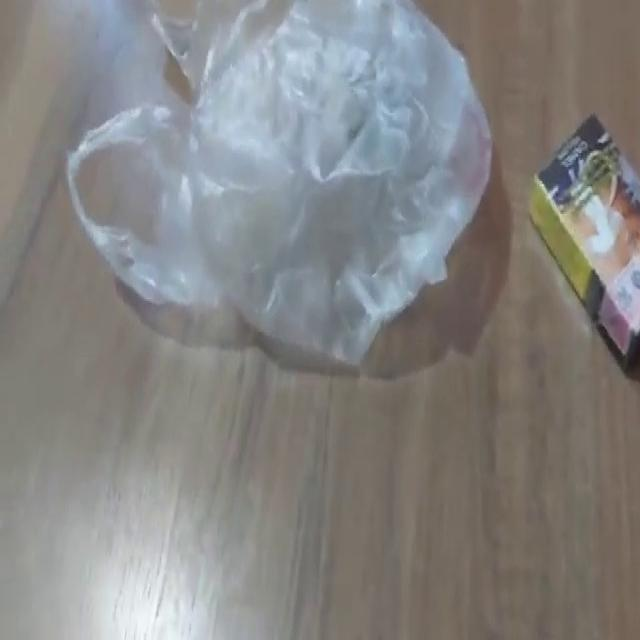Anorganik: (61, 2, 498, 372)
Organik: (526, 108, 640, 386)
